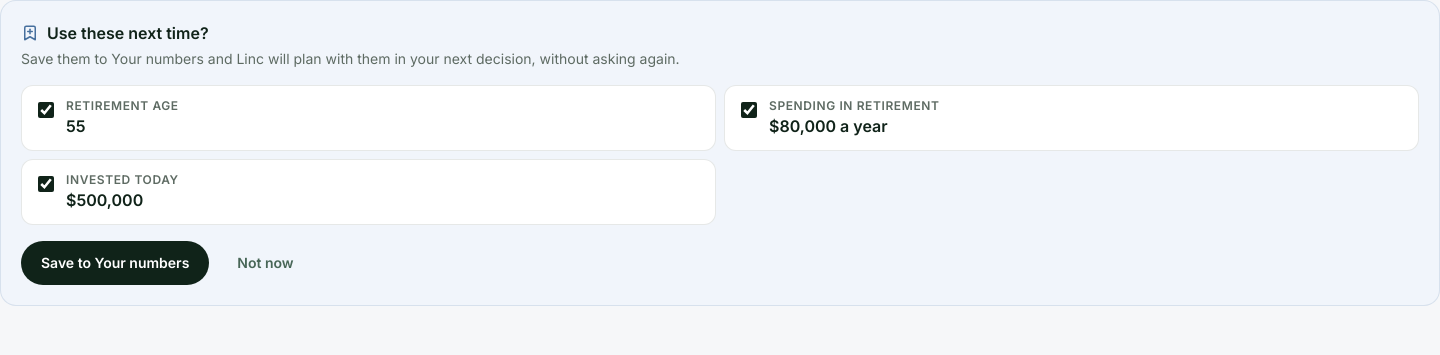
Use these next time? › says why a save failed and keeps the offer open
Click the button "Save to Your numbers": x=115, y=263 [21,241,209,285]
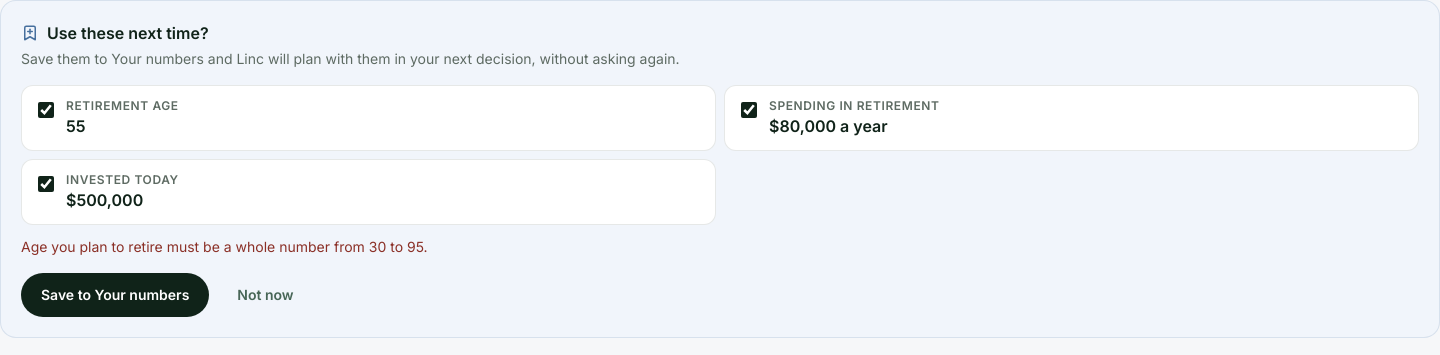
Expected: the button "Save to Your numbers" is enabled, [21,273,209,317]
Expected: the message reads "Age you plan to retire must be a whole number from 30 to 95.", [21,238,428,255]
